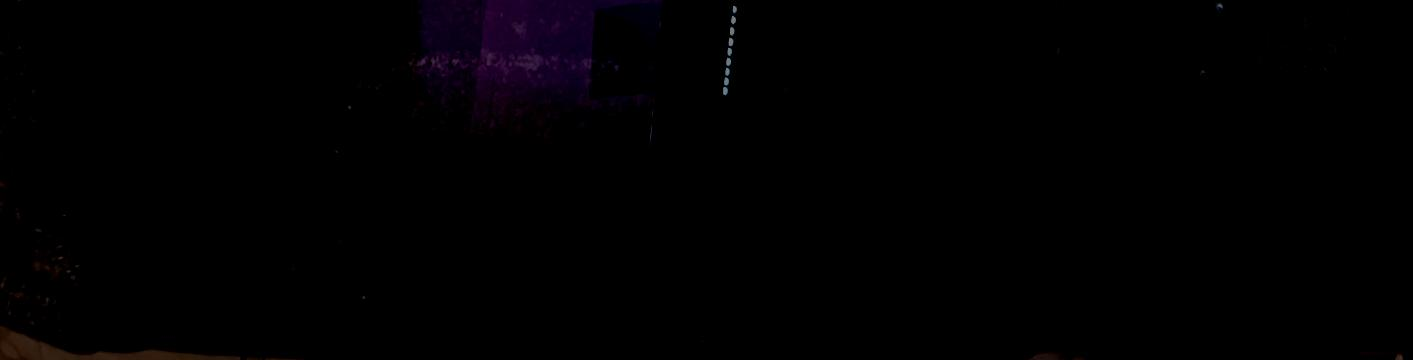RoyalStatues: (0, 0, 364, 360)
